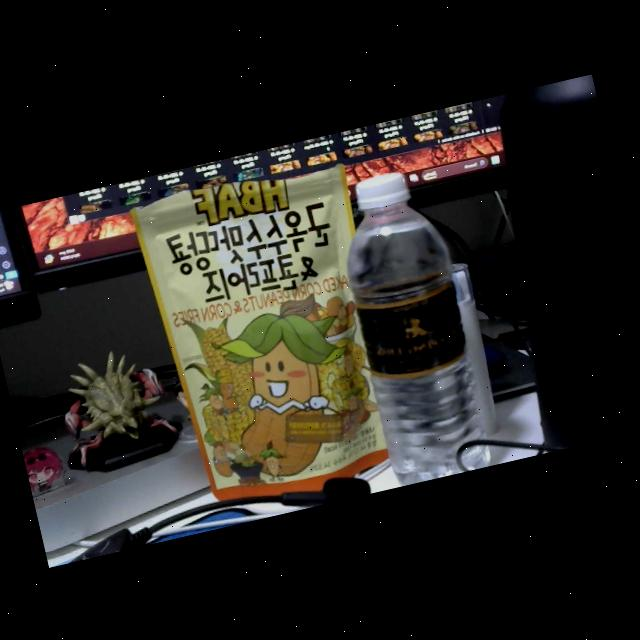trash: (323, 157, 498, 486)
